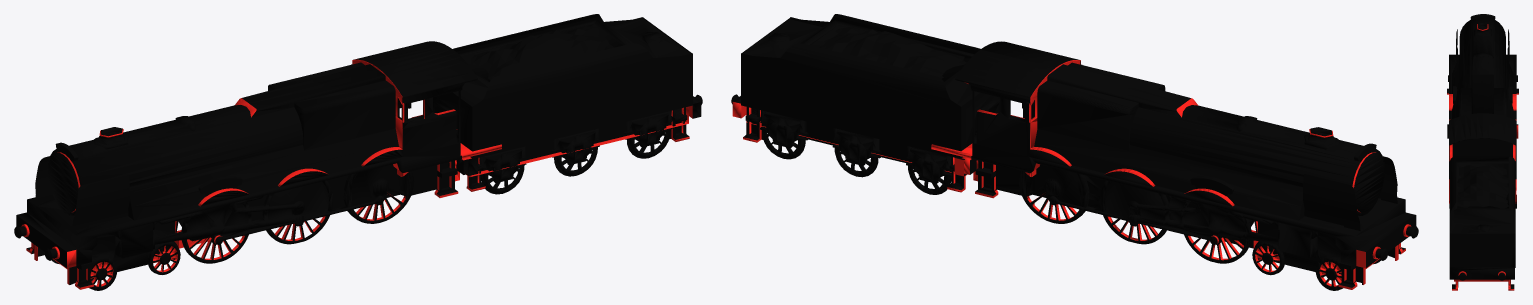
The model's file is train_a.dae.
3 renders of one model, left to right at view 1: azimuth 30°, elevation 25°; view 2: azimuth 150°, elevation 25°; view 3: azimuth 270°, elevation 25°, orthographic. The views are drawn at different scales.
Visible parts, largest first — view 1: 3d-model; view 2: 3d-model; view 3: 3d-model.
Part boxes in pixels (x1=…): 3d-model: x1=14, y1=14, x2=702, y2=290; 3d-model: x1=731, y1=14, x2=1418, y2=290; 3d-model: x1=1447, y1=14, x2=1518, y2=290.
Bounding box in the file's own units: 14.99 × 2.14 × 3.07.
